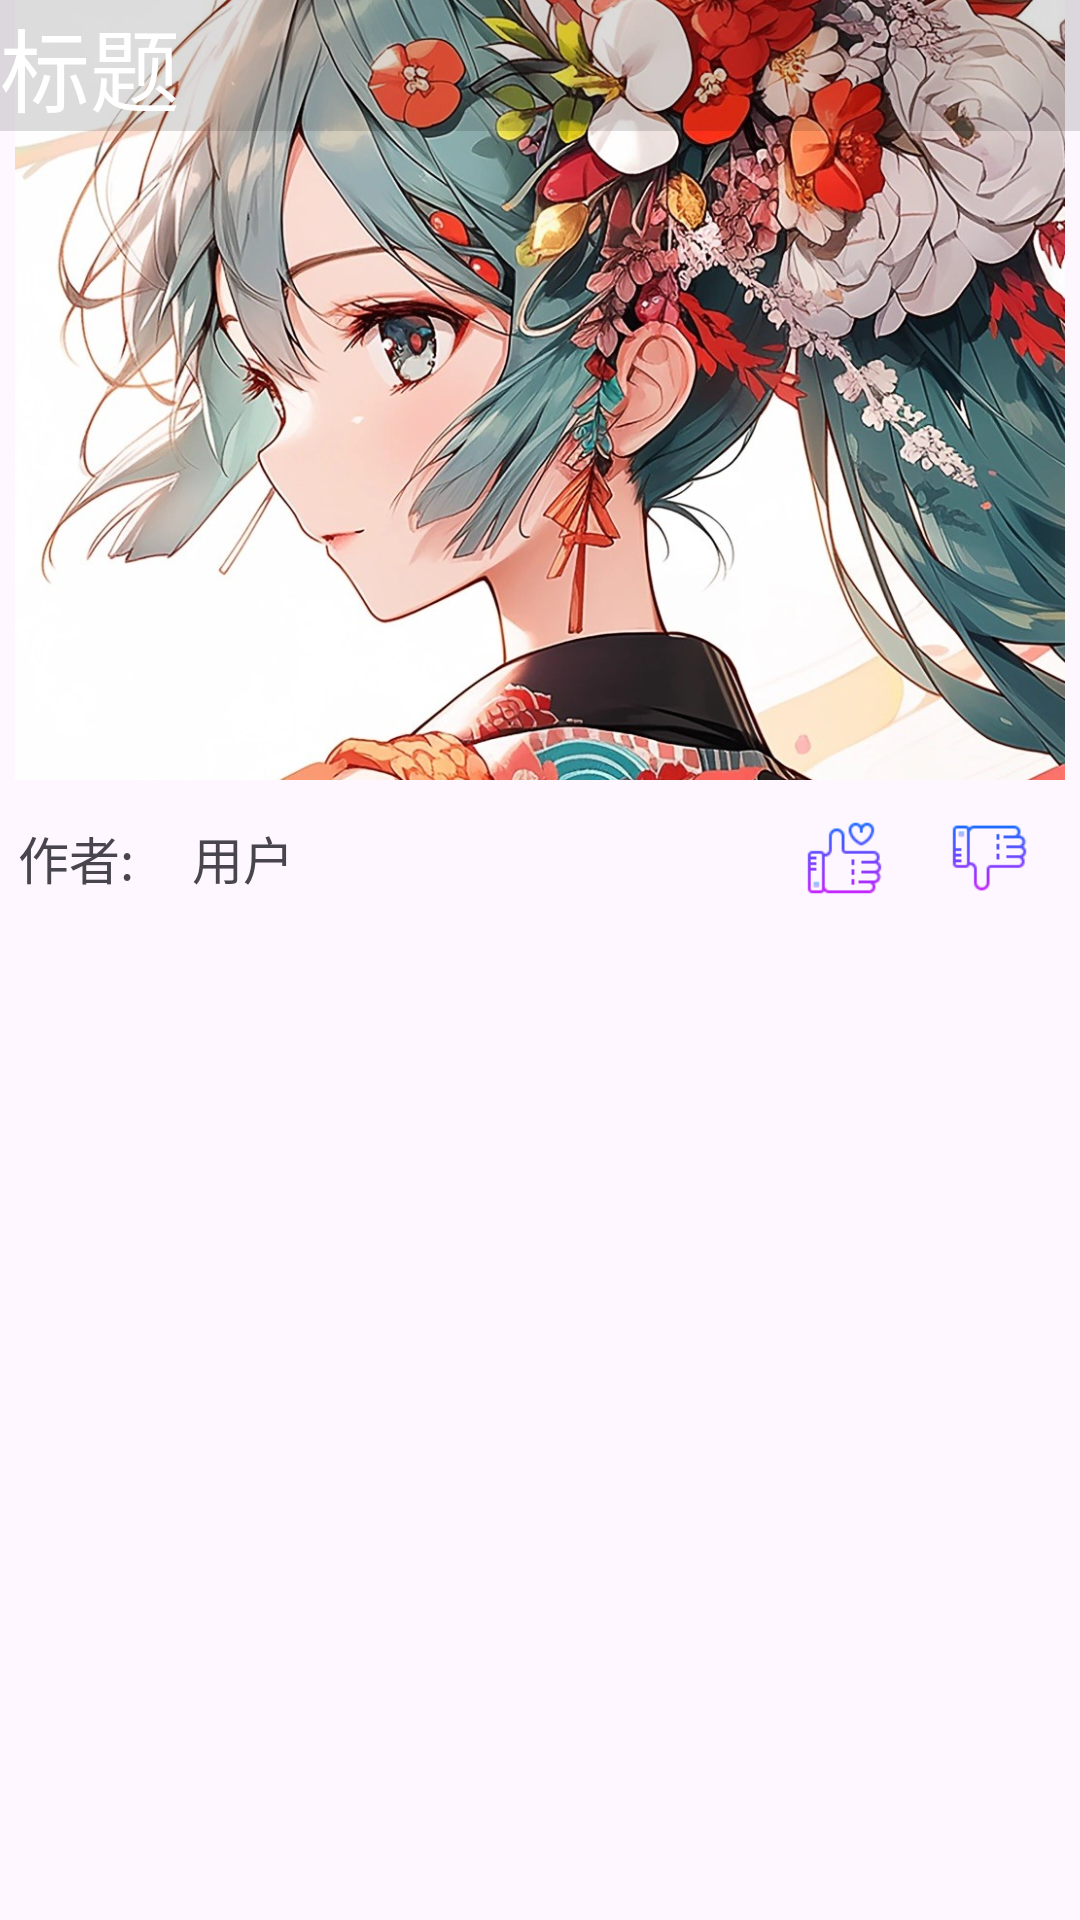

Icons on this 1080x1920 Android screen, each with the point to tap as point (x, y):
dislike: point (989, 858)
like: point (844, 858)
